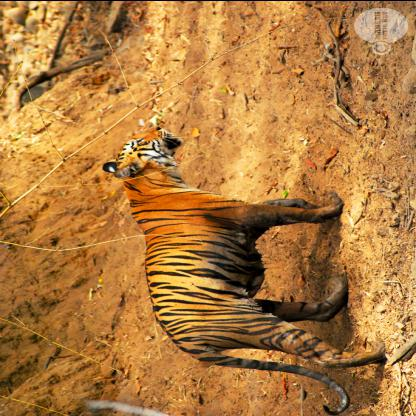tiger: (105, 120, 207, 172)
